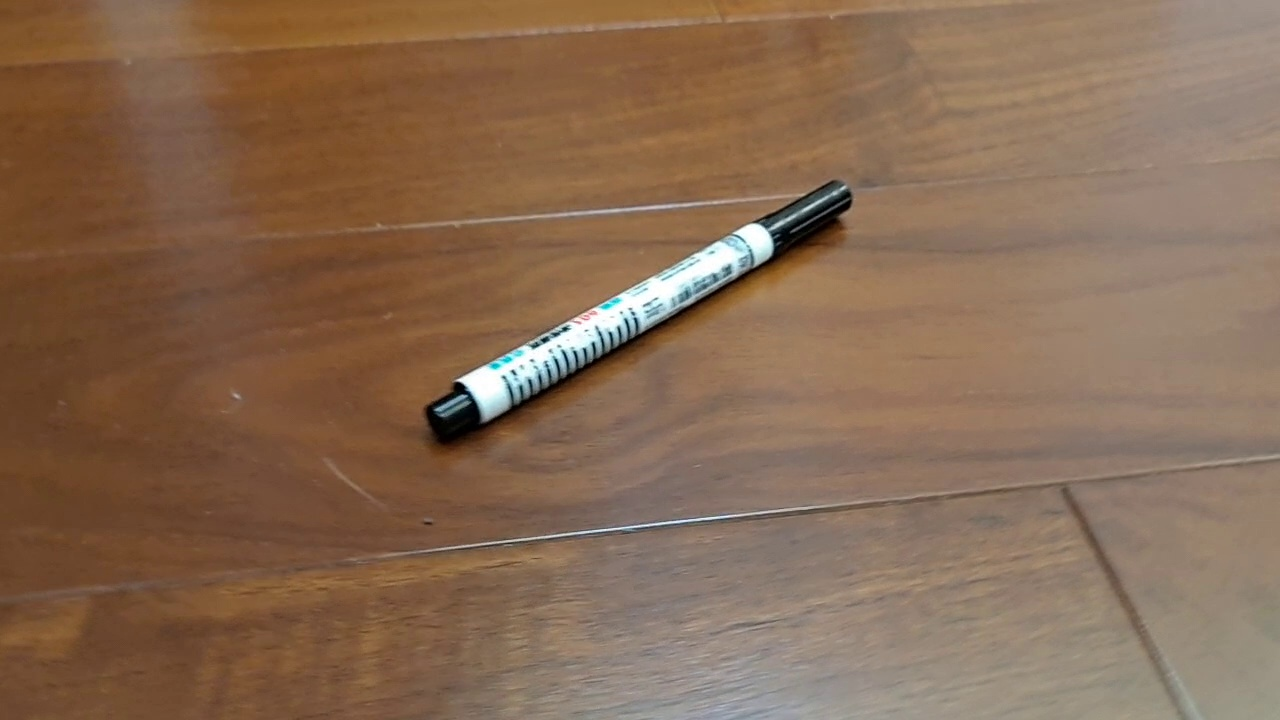pen: (423, 179, 853, 446)
